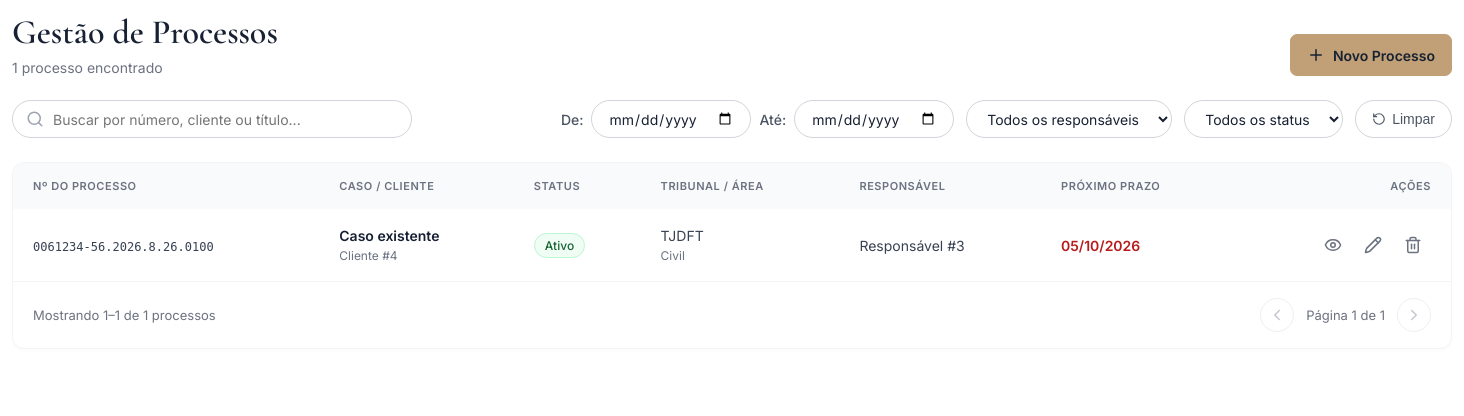
Test case: ProcessosClient › consulta o servidor ao filtrar por status e volta à primeira página
Select "Concluído" in the dropdown named "filtrar por status" at coordinates (1264, 119), box [1184,100,1343,138]
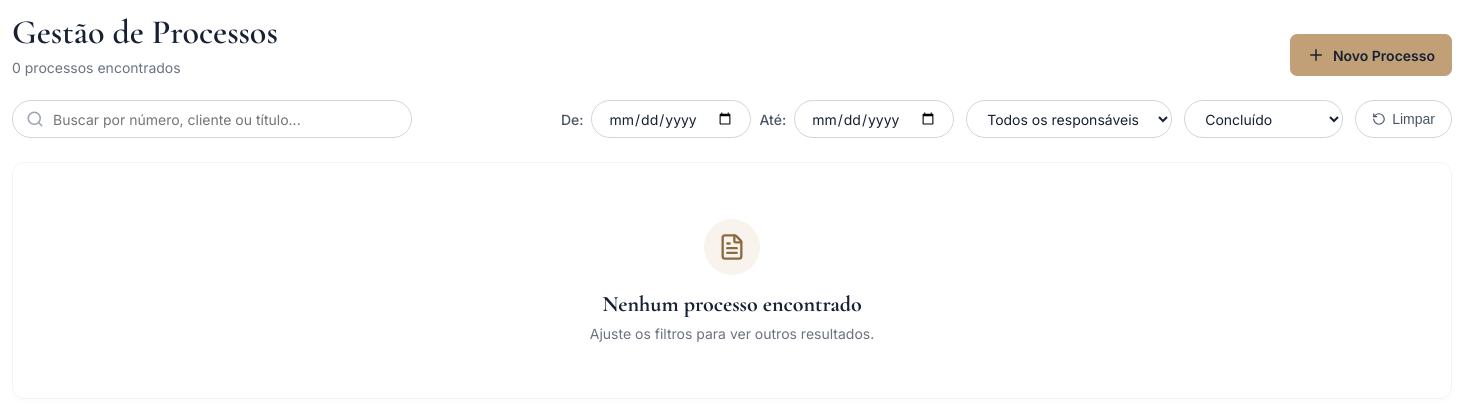
Now the heading "Nenhum processo encontrado" is shown, box [602,291,862,317]
